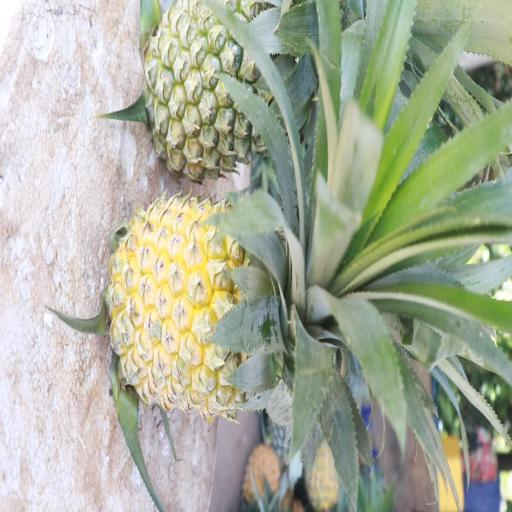------------------------------: (145, 0, 357, 171)
Pineapple - v8 v1: (111, 201, 350, 412)
